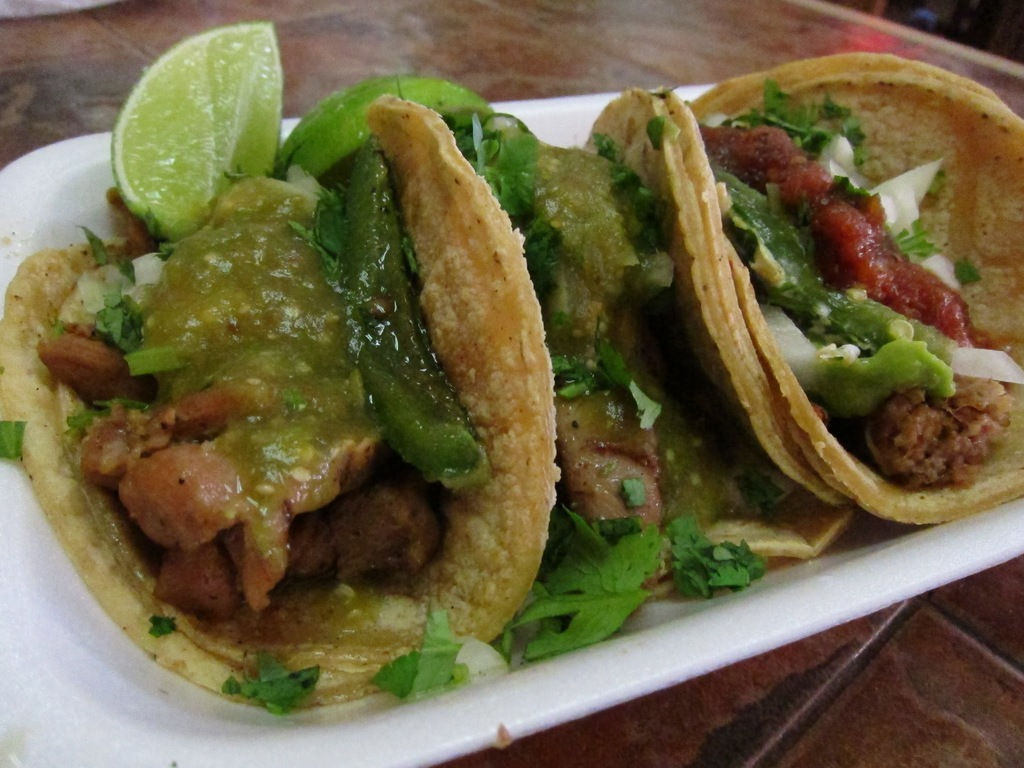taco: (9, 98, 560, 713), (582, 52, 1023, 527)
